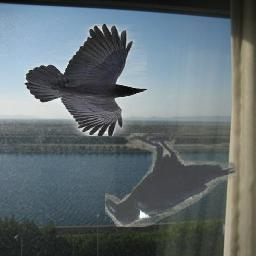Crow: (25, 24, 148, 136), (105, 133, 237, 227)
